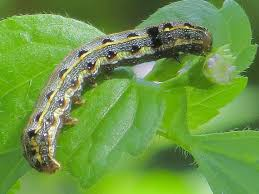Armyworm: (14, 24, 216, 178)
